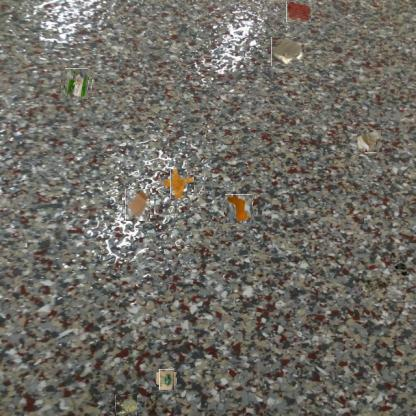dirty: (271, 36, 304, 66), (124, 191, 152, 220), (224, 195, 253, 223), (63, 70, 90, 98), (357, 130, 381, 154), (115, 394, 137, 416), (158, 370, 176, 389)
liquid: (167, 172, 191, 195), (286, 0, 311, 22)
